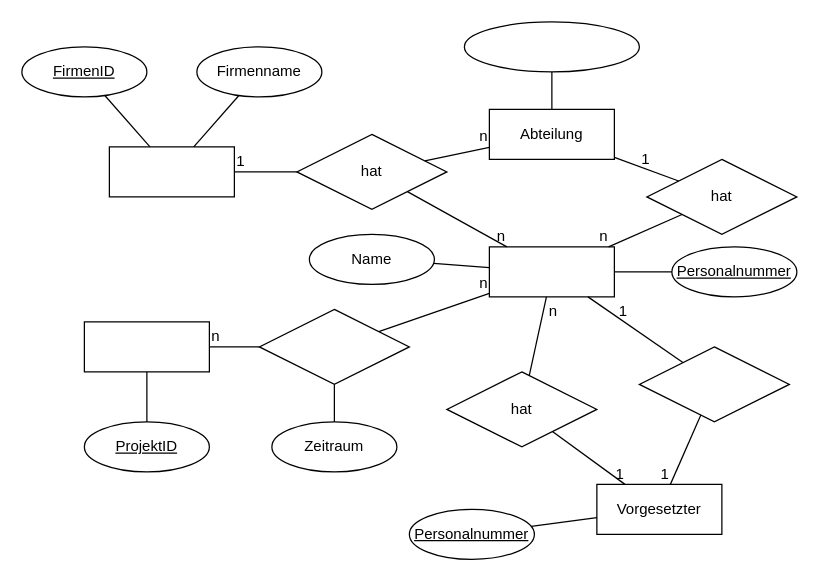
Image size: 819x581. Some labels were removed from this diagram. The centre of each missing label's shape, as x and y in pixels:
"arbeitet an" goes at (333,346).
"Bezeichnung" goes at (551,46).
"Firma" goes at (171,171).
"ist" goes at (713,384).
"Mitarbeiter" goes at (551,271).
"Projekt" goes at (146,346).
